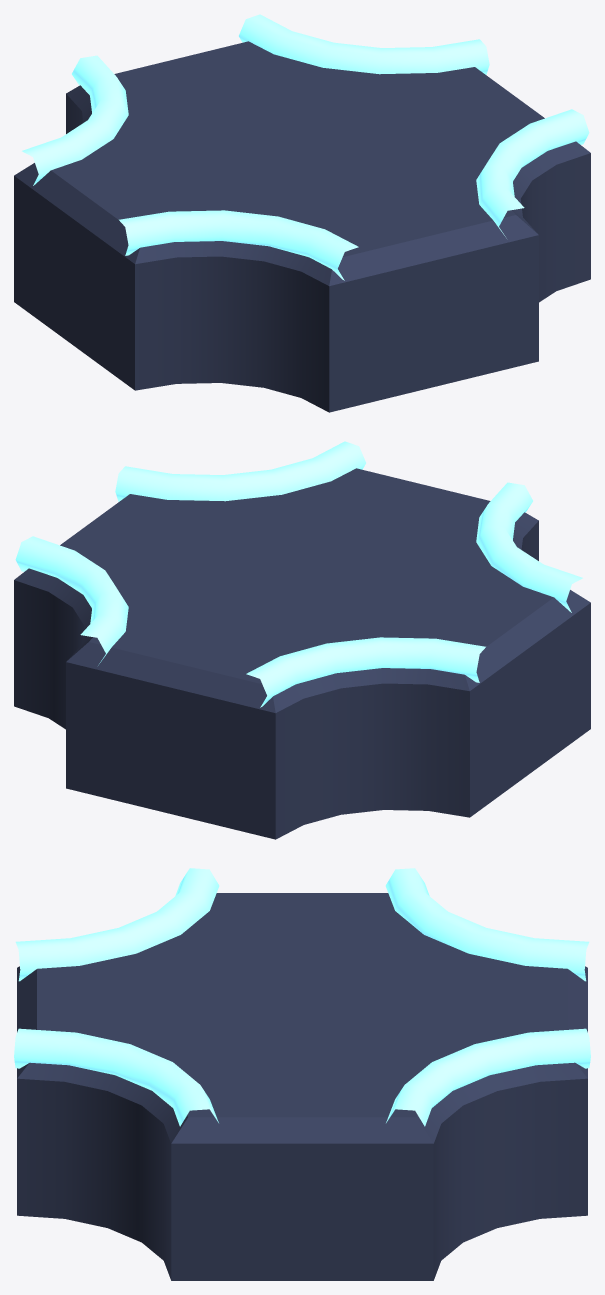
The model's file is wall_cross.glb.
3 renders of one model, top to bottom at view 1: azimuth 30°, elevation 25°; view 2: azimuth 150°, elevation 25°; view 3: azimuth 270°, elevation 25°, orthographic. The views are drawn at different scales.
Parts seen in each view (by area): view 1: wall_cross; view 2: wall_cross; view 3: wall_cross.
Boxes of the visible parts, x1,y1,x2,y2 form: wall_cross: (14, 14, 590, 412); wall_cross: (14, 441, 590, 839); wall_cross: (14, 868, 590, 1280).
Bounding box in the file's own units: 1.01 × 0.3303 × 1.01.
